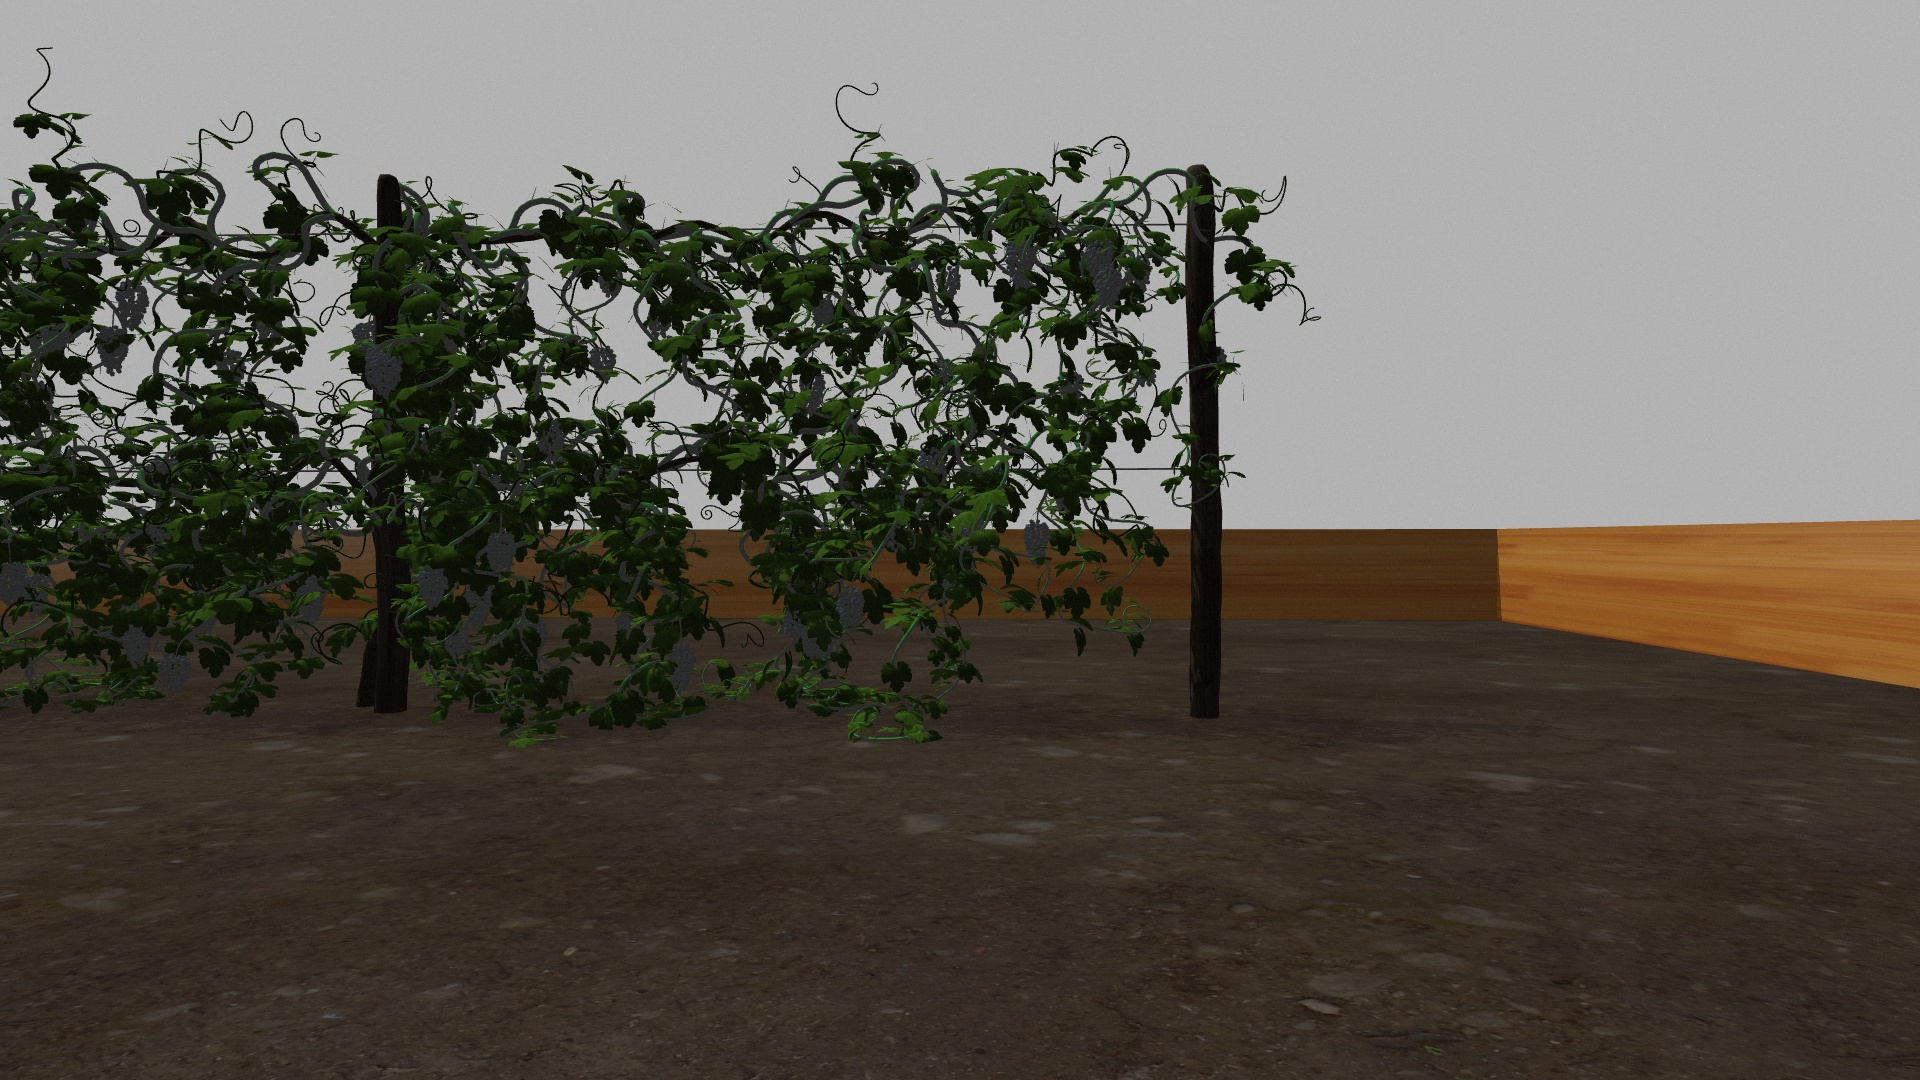grape: (365, 348, 404, 398), (115, 280, 149, 332), (96, 328, 135, 375), (1004, 235, 1035, 287), (835, 584, 866, 637), (666, 641, 698, 694), (158, 651, 193, 698), (121, 628, 154, 671), (297, 578, 328, 622), (417, 567, 448, 611), (465, 585, 493, 633), (487, 531, 518, 572), (29, 323, 71, 353), (1095, 266, 1124, 310), (537, 419, 566, 463), (1083, 235, 1116, 273), (1022, 521, 1050, 563), (26, 576, 51, 618), (4, 562, 28, 605), (800, 630, 832, 662), (589, 344, 617, 380), (936, 268, 961, 302), (919, 447, 947, 476), (781, 611, 803, 640), (814, 301, 835, 328), (444, 634, 469, 654)
